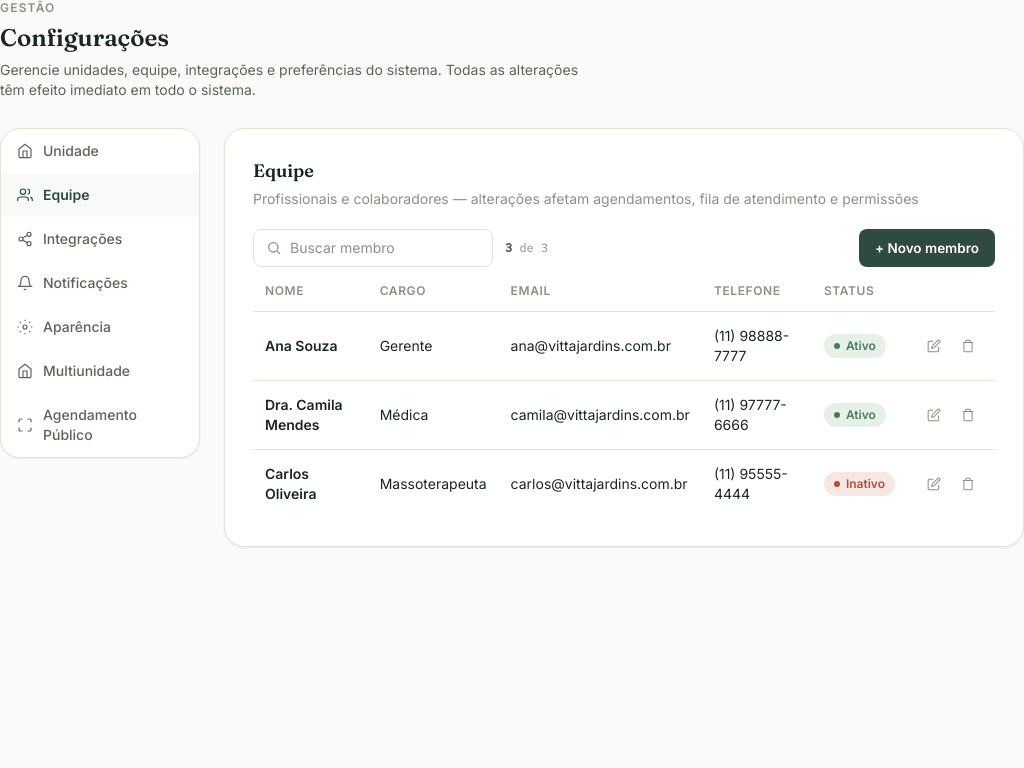
Test: Configuracoes › Aba Equipe › deve abrir modal ao clicar em Novo membro
Click the button "+ Novo membro". click: (927, 248)
box: left=859, top=229, right=995, bottom=267
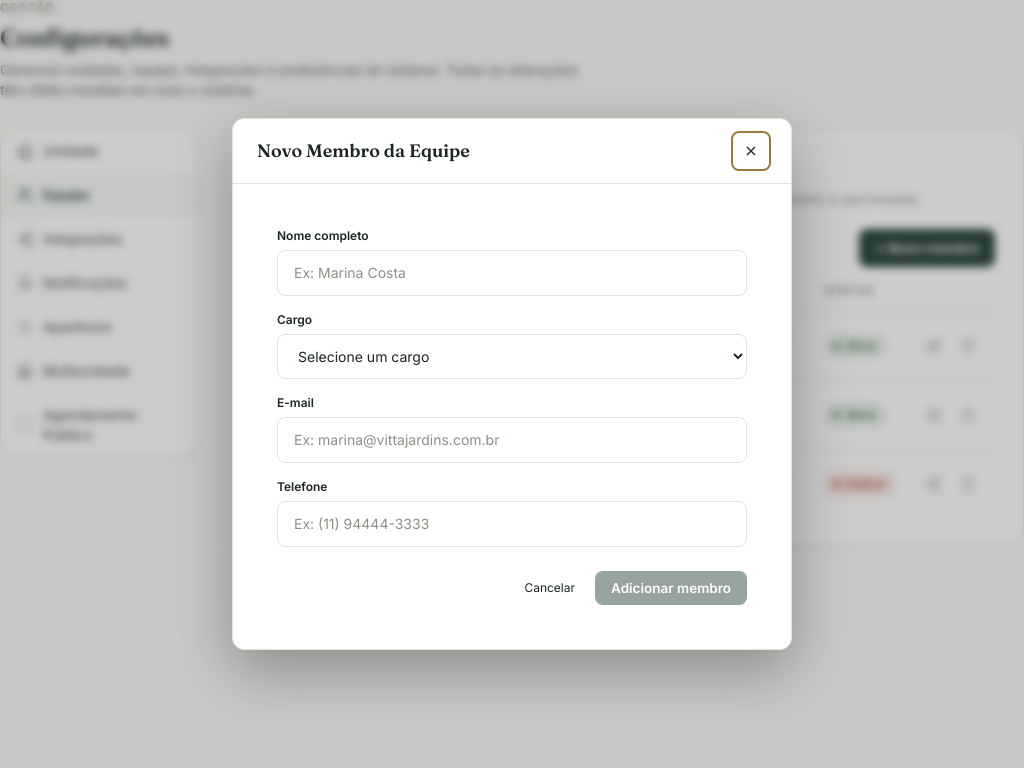
Expected: the heading "Novo Membro da Equipe" is shown, left=257, top=137, right=478, bottom=165
